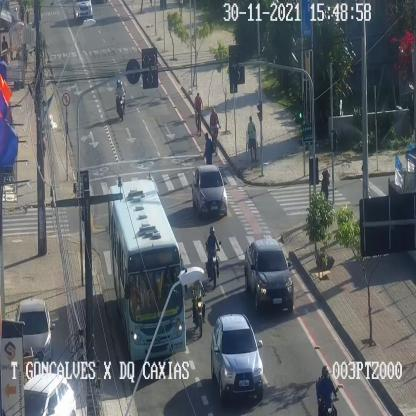bicycle: (210, 107, 221, 154), (194, 92, 204, 136)
bus: (108, 180, 186, 361)
car: (210, 314, 262, 398), (244, 238, 293, 310), (16, 299, 52, 367), (23, 374, 76, 416), (192, 165, 227, 214), (74, 0, 96, 23)
motorbike: (316, 365, 339, 416), (191, 279, 206, 336), (206, 226, 220, 287), (116, 78, 125, 121)
person: (247, 116, 256, 161), (320, 170, 330, 207), (203, 132, 213, 165)
